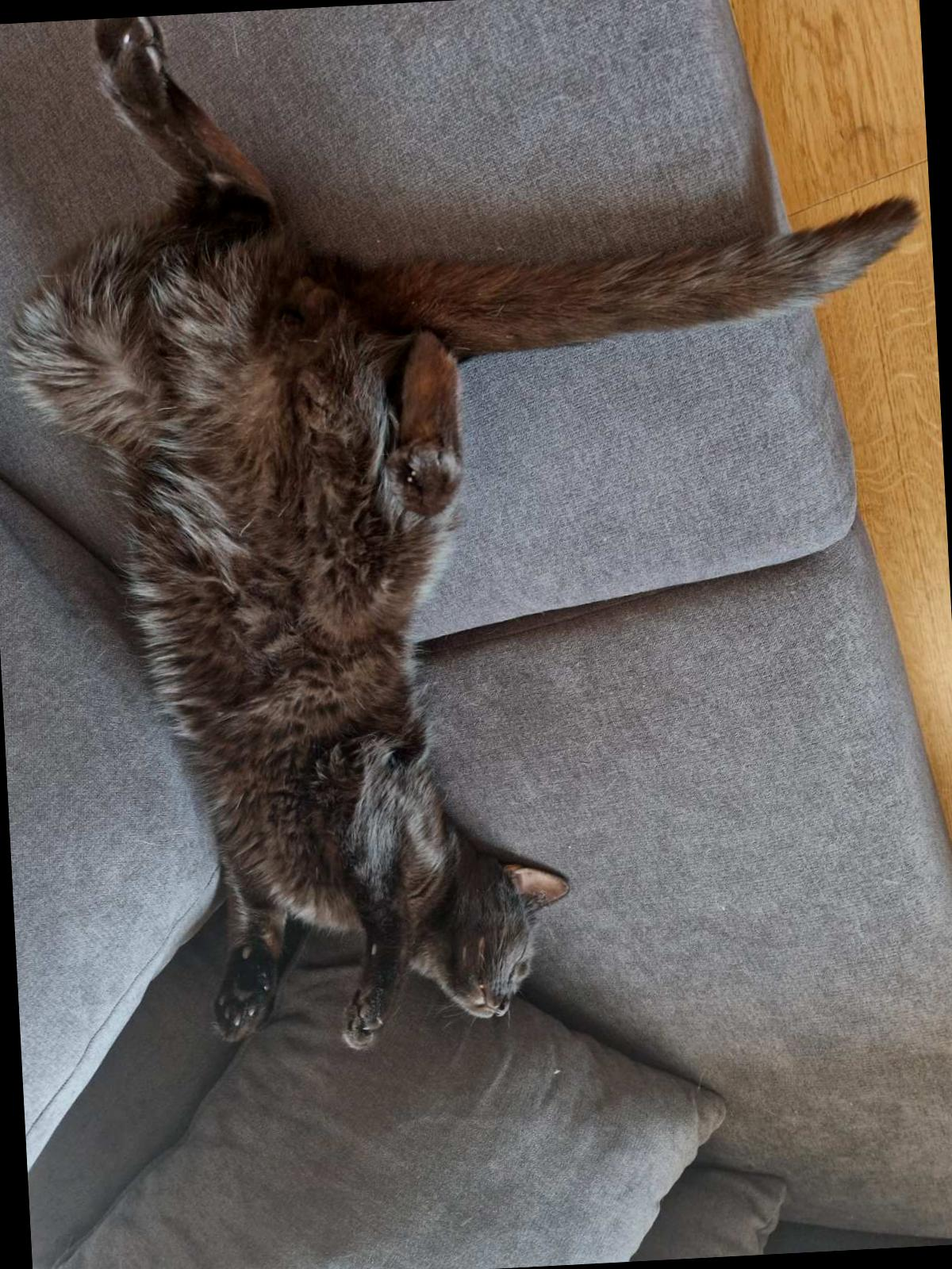macka: (2, 0, 950, 1075)
